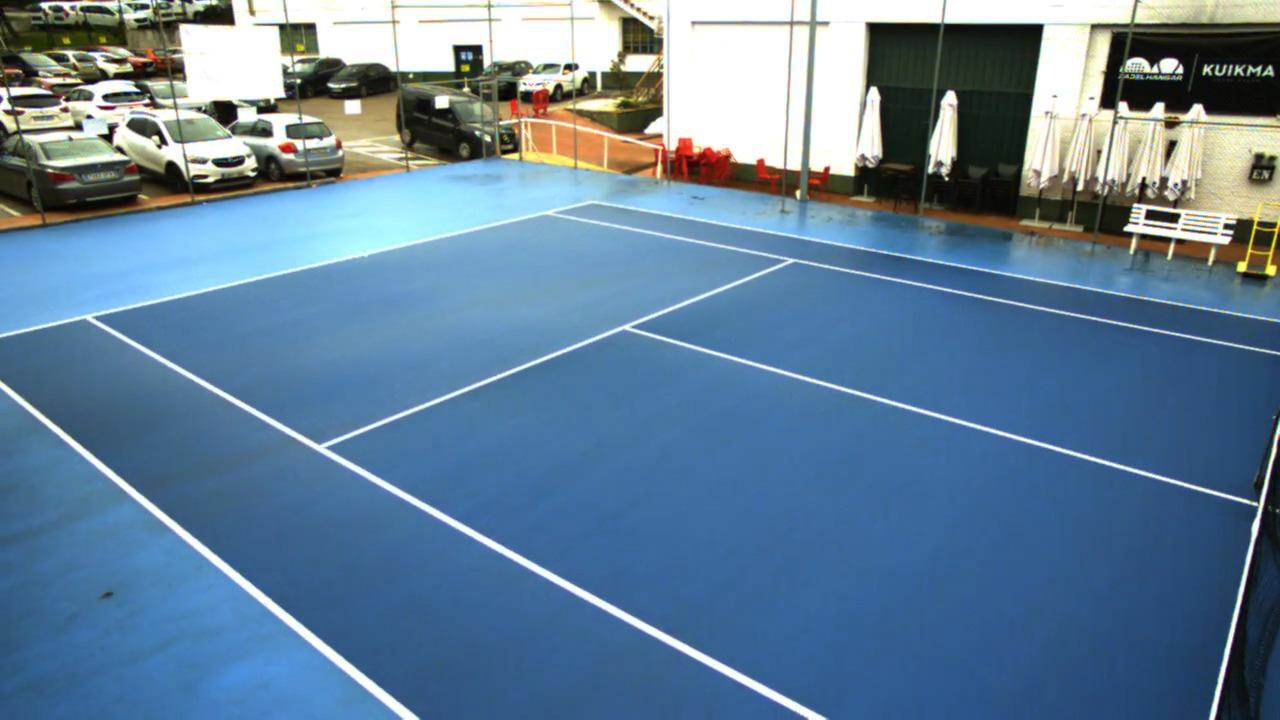cancha_tenis: (85, 212, 1280, 720)
point_f1: (71, 305, 109, 332)
point_f2: (535, 199, 561, 223)
point_fc1: (355, 244, 374, 264)
point_i1: (305, 436, 341, 462)
point_i2: (771, 247, 803, 272)
point_ic1: (611, 314, 646, 345)
